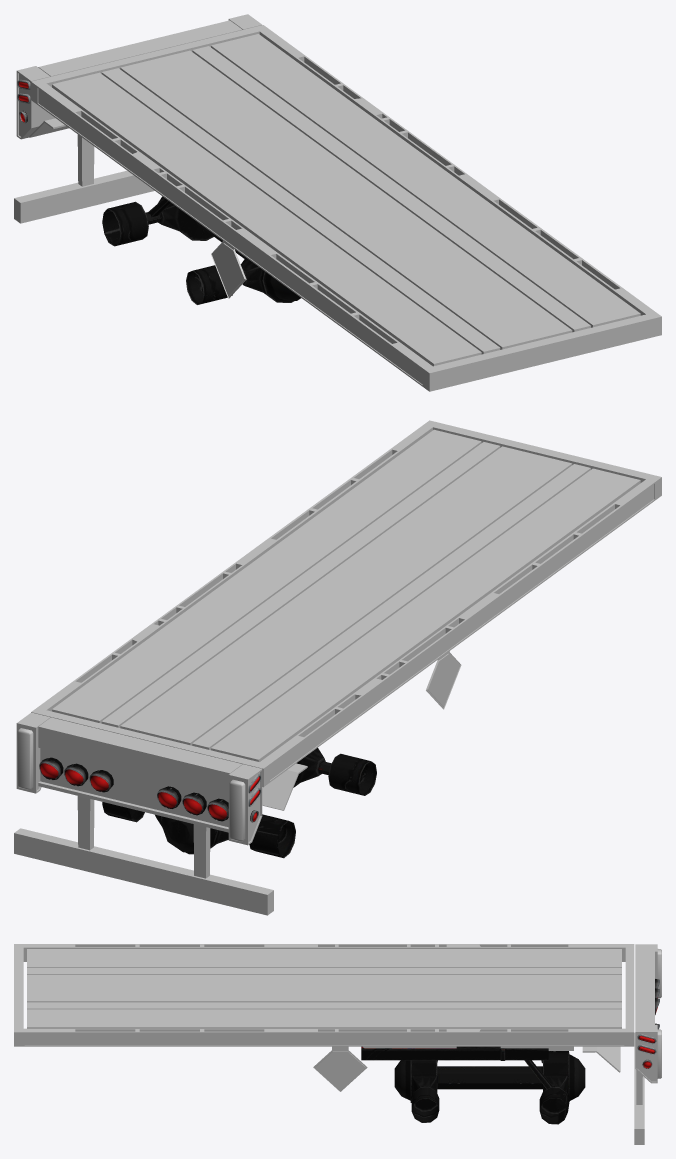
The model's file is Rear Container.fbx.
3 renders of one model, top to bottom at view 1: azimuth 30°, elevation 25°; view 2: azimuth 150°, elevation 25°; view 3: azimuth 270°, elevation 25°, orthographic. The views are drawn at different scales.
Parts seen in each view (by area): view 1: Rear Container; view 2: Rear Container; view 3: Rear Container.
Boxes of the visible parts, left/top/right/bottom form: Rear Container: left=14, top=14, right=661, bottom=391; Rear Container: left=14, top=420, right=661, bottom=915; Rear Container: left=14, top=944, right=661, bottom=1144.
Bounding box in the file's own units: 2.86 × 1.55 × 8.1.
